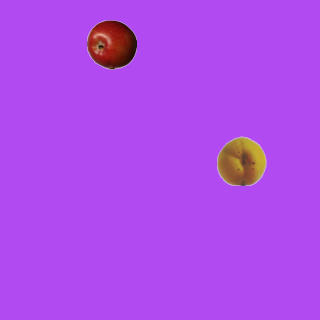Apple Braeburn: (86, 19, 136, 69)
Peach 2: (216, 135, 266, 185)
